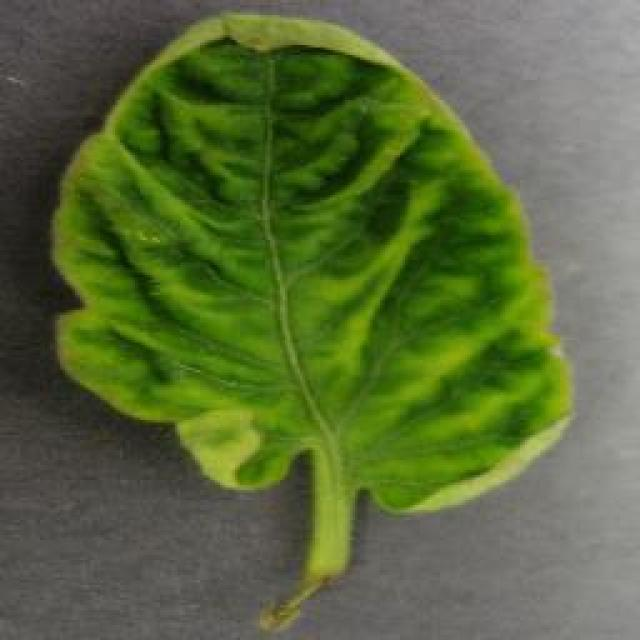Tom_Yellow_Leaf_Curl_Virus: (83, 58, 525, 478)
